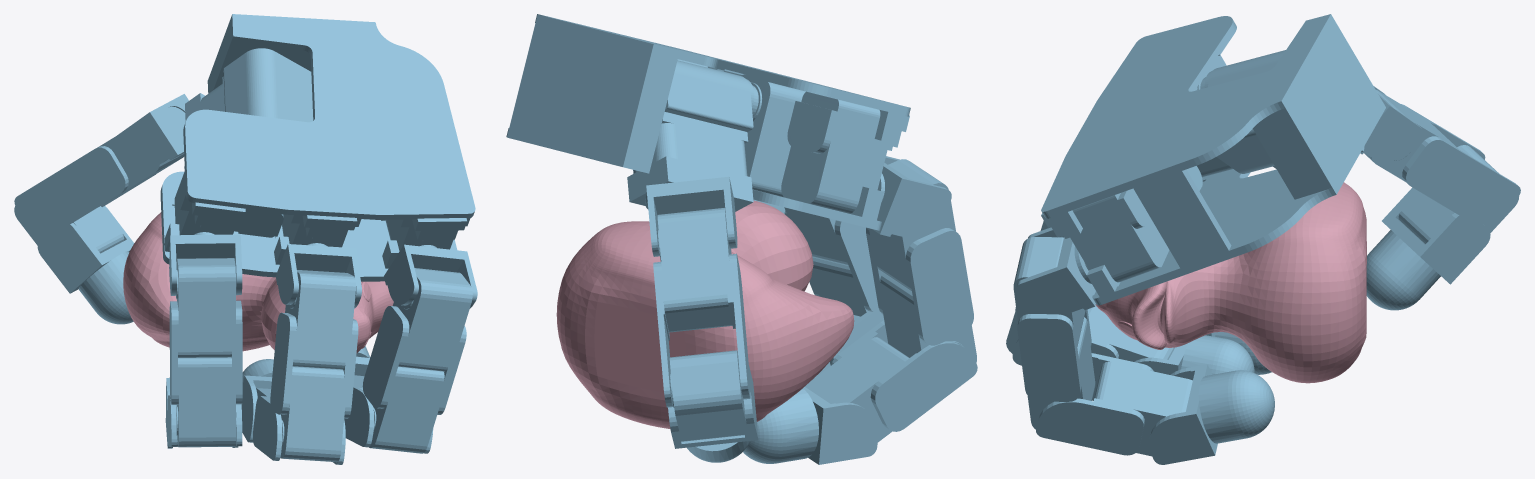
3 renders of one model, left to right at view 1: azimuth 30°, elevation 25°; view 2: azimuth 150°, elevation 25°; view 3: azimuth 270°, elevation 25°, orthographic. The views are drawn at different scales.
Visible parts, largest first — view 1: world; view 2: world; view 3: world.
Part boxes in pixels (bbox=[...]): world: bbox=[14, 14, 477, 464]; world: bbox=[506, 14, 977, 464]; world: bbox=[1006, 14, 1520, 464].
Bounding box in the file's own units: 0.1398 × 0.1593 × 0.1798.
